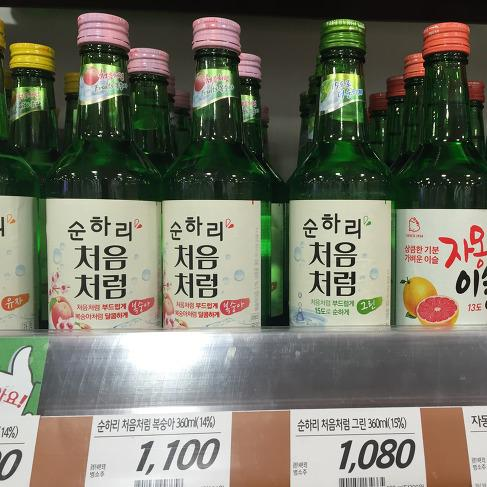soju: (2, 11, 484, 333)
